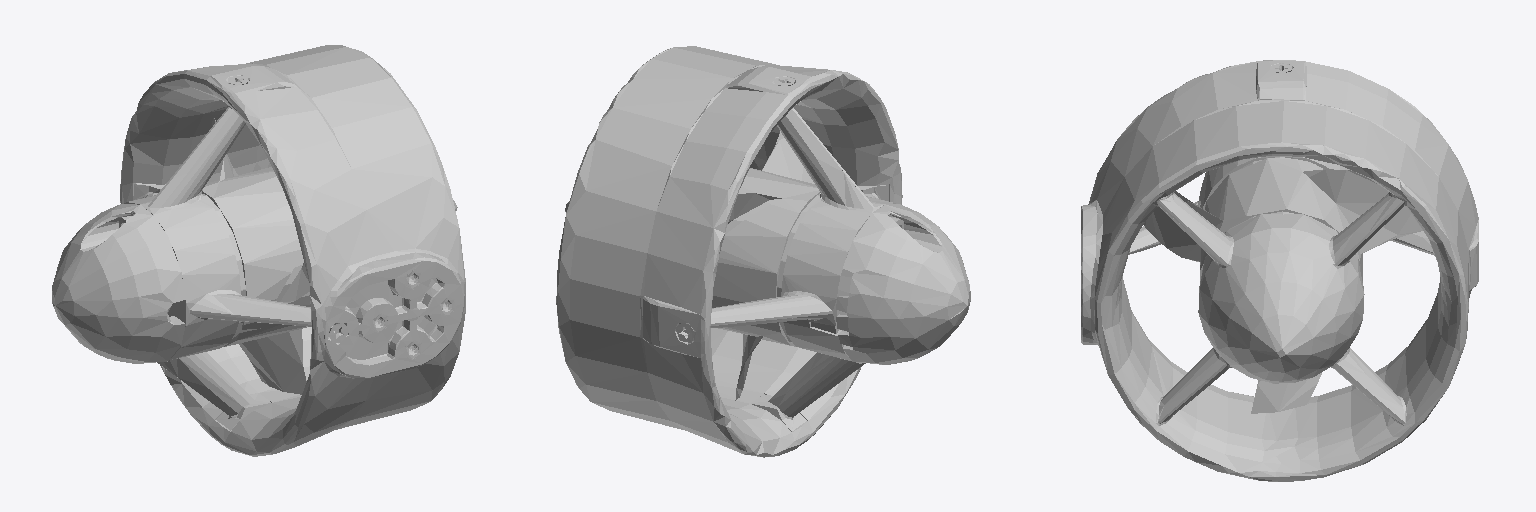
File: thruster_blt.obj
The picture shows the model from 3 angles: view 1: azimuth 30°, elevation 25°; view 2: azimuth 150°, elevation 25°; view 3: azimuth 270°, elevation 25°; orthographic projection.
Bounding box in the file's own units: 0.1127 × 0.0966 × 0.0973.